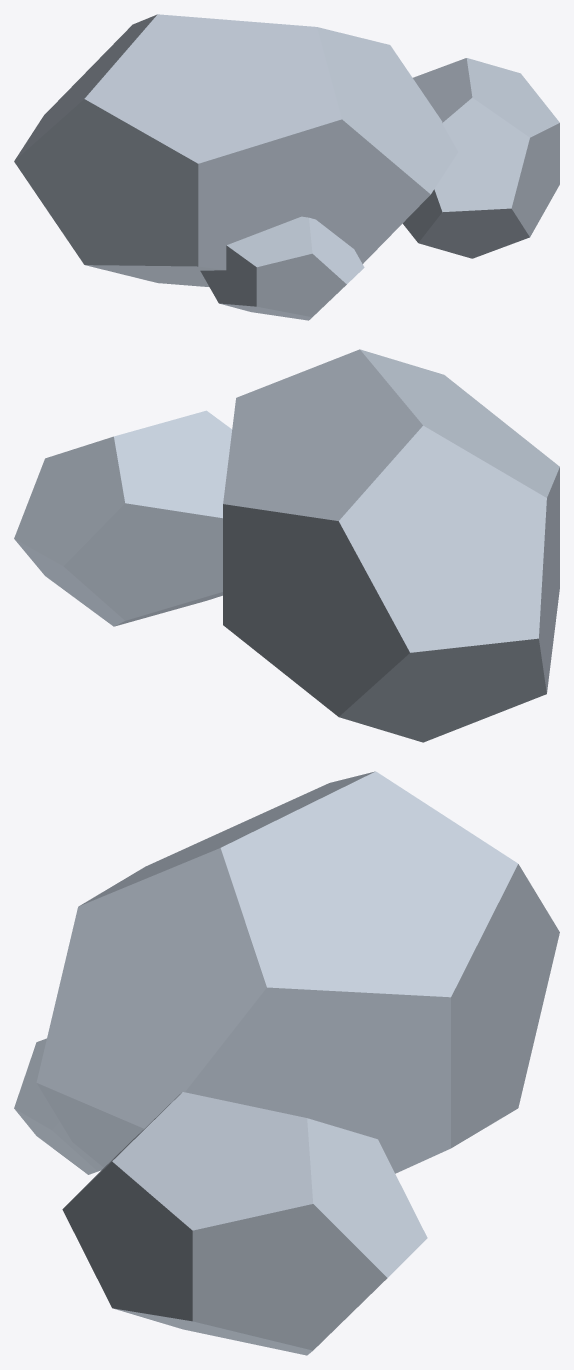
Rendered from garden-rocks-lite.glb.
3 views of the same model, one above another, from view 1: azimuth 30°, elevation 25°; view 2: azimuth 150°, elevation 25°; view 3: azimuth 270°, elevation 25° (orthographic). The views are drawn at different scales.
Visible parts, largest first — view 1: garden-rocks; view 2: garden-rocks; view 3: garden-rocks.
Boxes of the visible parts, x1=… form: garden-rocks: x1=14, y1=14, x2=559, y2=320; garden-rocks: x1=14, y1=349, x2=559, y2=742; garden-rocks: x1=14, y1=771, x2=559, y2=1355.
Size of the model in its own units: 1.3 by 0.72 by 0.9.
